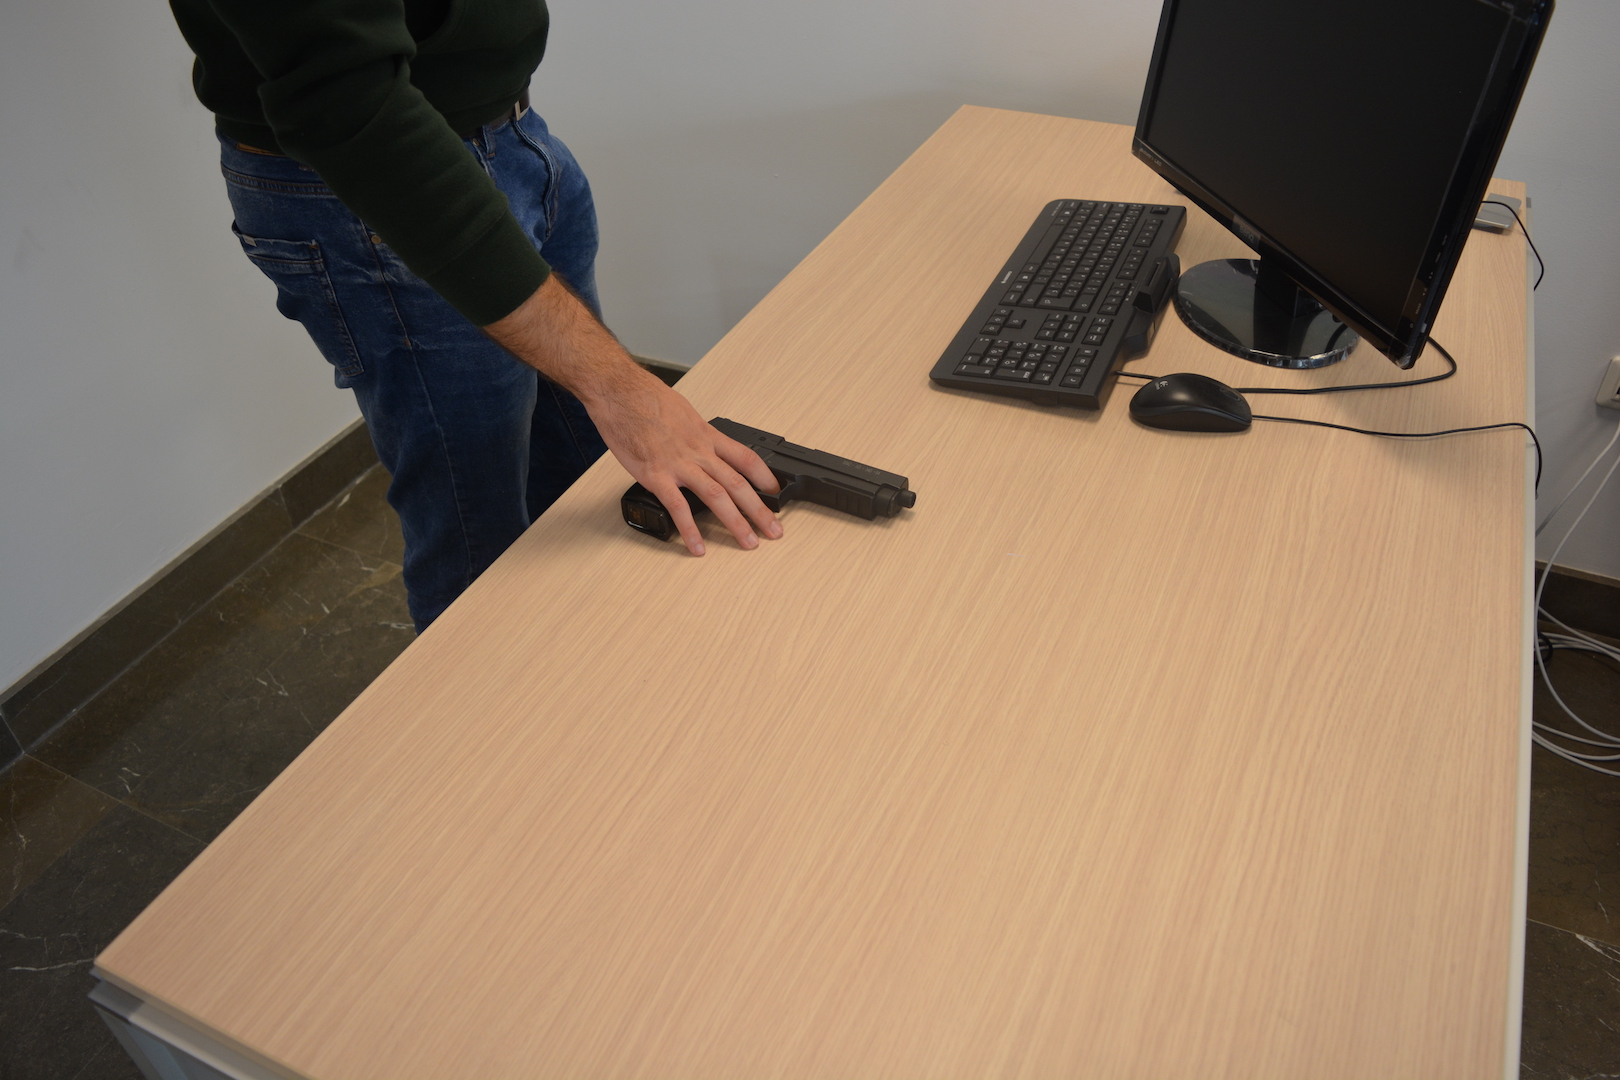pistol: (620, 416, 918, 542)
